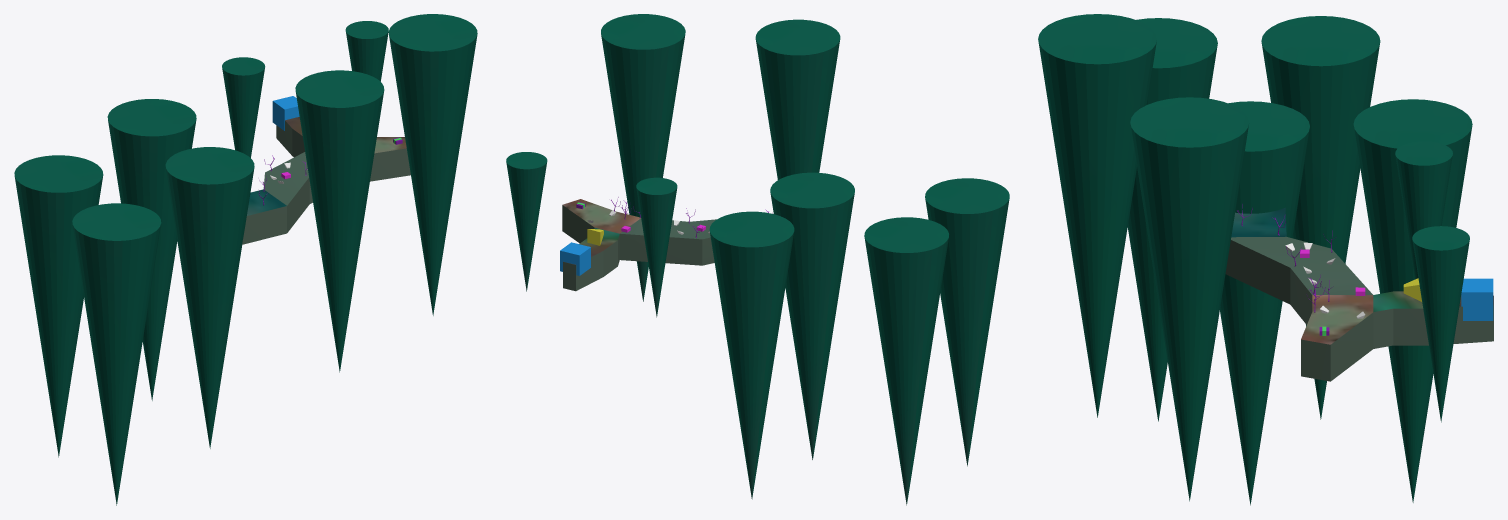
The model's file is demo-swamp.gltf.
3 renders of one model, left to right at view 1: azimuth 30°, elevation 25°; view 2: azimuth 150°, elevation 25°; view 3: azimuth 270°, elevation 25°, orthographic. The views are drawn at different scales.
Visible parts, largest first — view 1: Cone.005, Cone.003, Cone.002, Cone.004, Cone.007, Cone.006, Cube, Cone, Cone.001, Cube.027; view 2: Cone.006, Cone.007, Cone.005, Cone.004, Cone.002, Cone.003, Cube, Cone, Cone.001, Cube.027; view 3: Cone.002, Cone.003, Cone.007, Cube, Cone.006, Cone.004, Cone.005, Cone.001, Cone, Cube.027.
Part boxes in pixels (x1,y1,x2,y2): Cone.005: [72, 203, 161, 505]; Cone.003: [295, 70, 384, 372]; Cone.002: [388, 14, 477, 315]; Cone.004: [165, 147, 254, 448]; Cone.007: [14, 155, 103, 457]; Cone.006: [107, 99, 196, 400]; Cube: [242, 117, 410, 244]; Cone: [222, 57, 265, 157]; Cone.001: [345, 21, 388, 81]; Cube.027: [272, 96, 299, 130]; Cone.006: [709, 211, 794, 499]; Cone.007: [864, 217, 948, 505]; Cone.005: [925, 178, 1009, 466]; Cone.004: [770, 172, 854, 459]; Cone.002: [601, 14, 685, 301]; Cone.003: [755, 19, 840, 179]; Cube: [562, 199, 716, 291]; Cone: [636, 177, 677, 317]; Cone.001: [506, 152, 547, 291]; Cube.027: [560, 242, 590, 275]; Cone.002: [1130, 97, 1249, 501]; Cone.003: [1038, 14, 1156, 417]; Cone.007: [1261, 16, 1380, 419]; Cube: [1225, 207, 1493, 381]; Cone.006: [1353, 99, 1472, 502]; Cone.004: [1220, 101, 1309, 505]; Cone.005: [1127, 18, 1217, 421]; Cone.001: [1412, 226, 1469, 422]; Cone: [1395, 141, 1452, 279]; Cube.027: [1461, 278, 1493, 320].
Size of the model in its own units: 314 by 279 by 224.
Materials: 6 (1 with a texture image).
